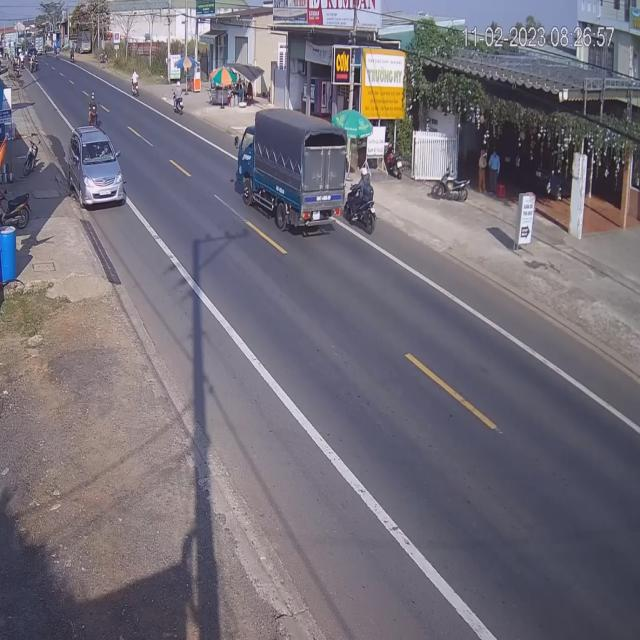car: (70, 127, 126, 210)
motorbike: (346, 170, 377, 234), (90, 92, 100, 127), (173, 86, 184, 115), (132, 70, 141, 99)
truck: (238, 106, 347, 233)
